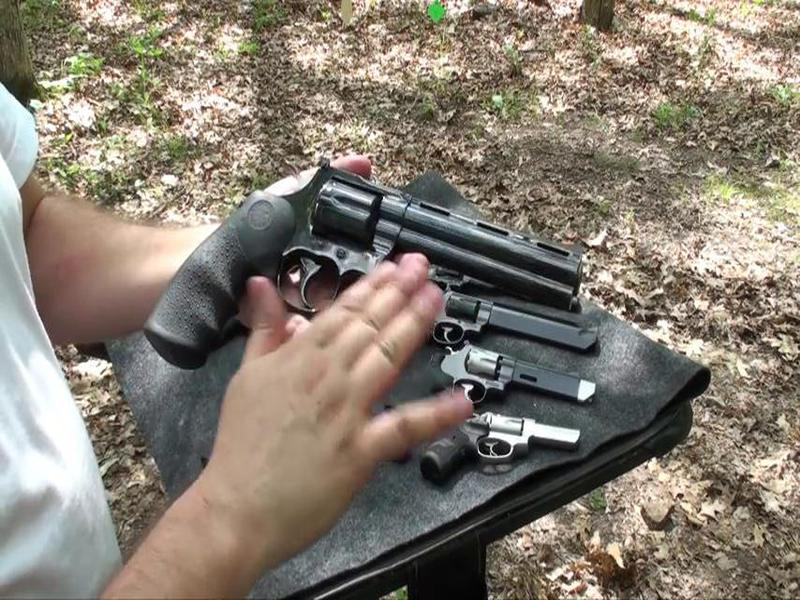Revolver: (130, 154, 578, 386)
